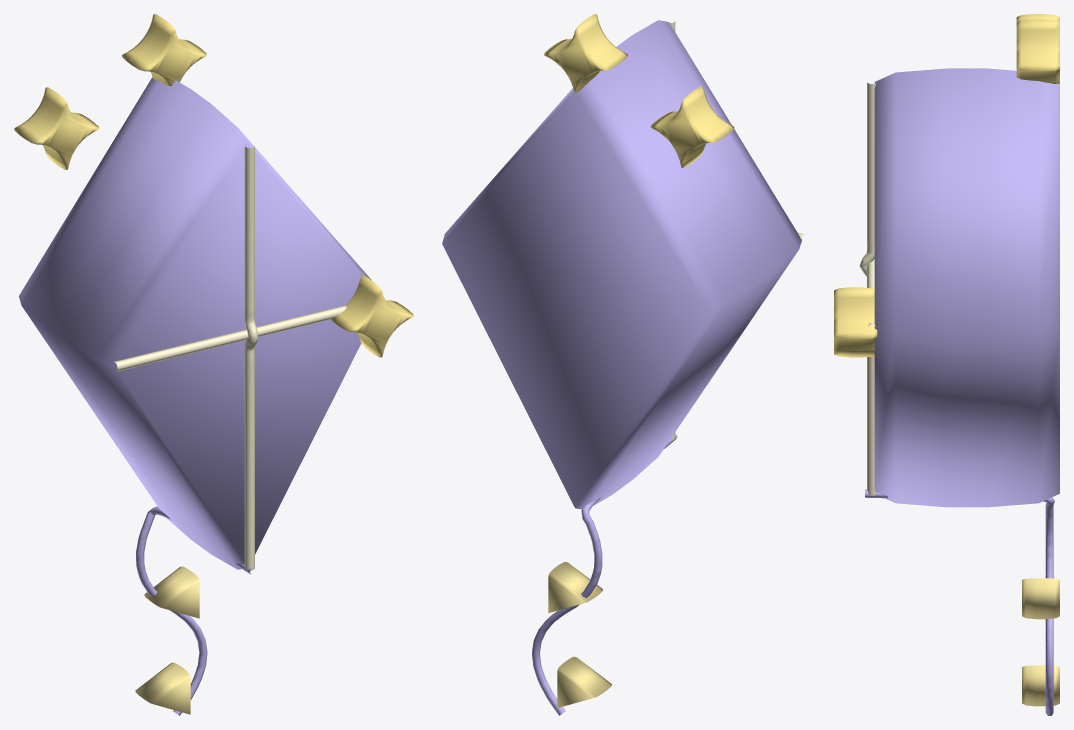
File: decor_5_star.glb
The picture shows the model from 3 angles, left to right: view 1: azimuth 30°, elevation 25°; view 2: azimuth 150°, elevation 25°; view 3: azimuth 270°, elevation 25°; orthographic projection. The views are drawn at different scales.
Visible parts, largest first — view 1: decor_5_star; view 2: decor_5_star; view 3: decor_5_star.
Boxes of the visible parts, x1,y1,x2,y2 form: decor_5_star: (14, 14, 413, 715); decor_5_star: (442, 14, 804, 715); decor_5_star: (834, 14, 1059, 715).
Bounding box in the file's own units: 6.54 × 15.02 × 4.47.
